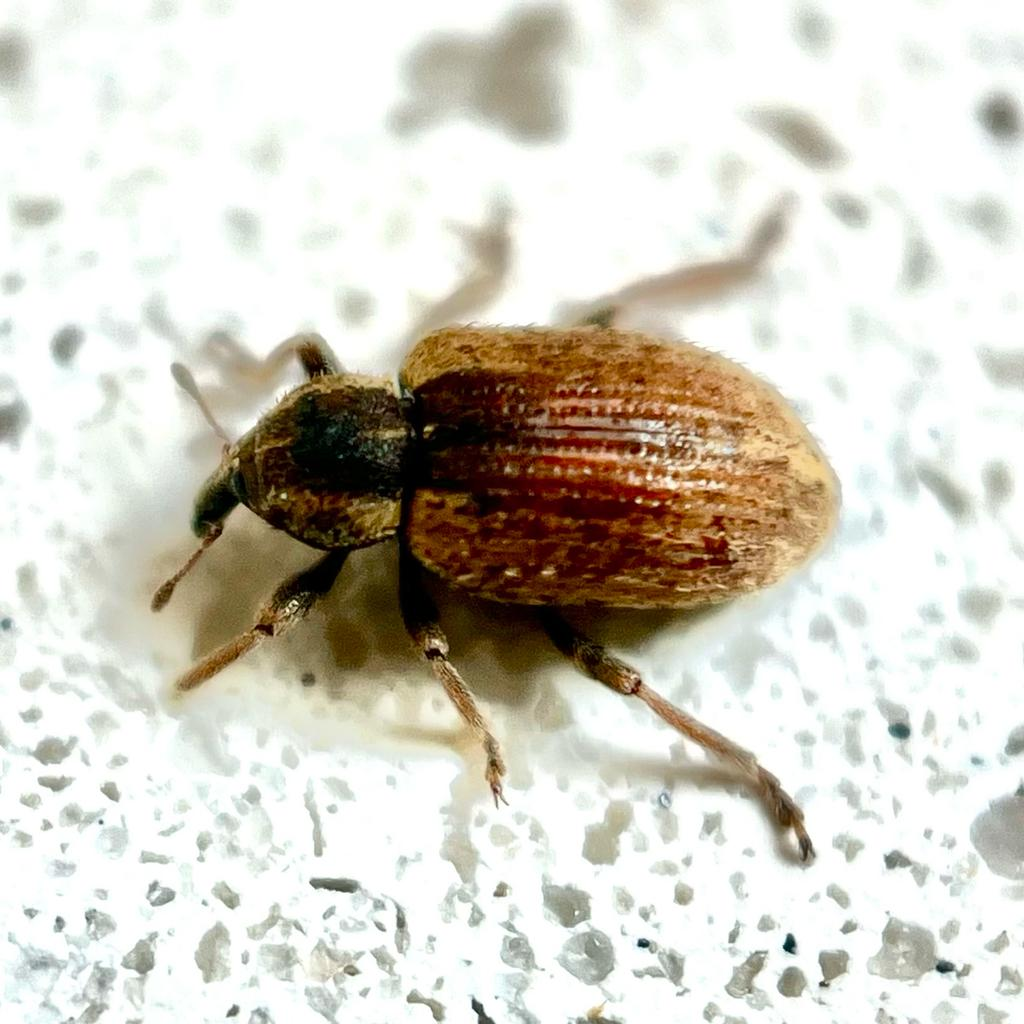weevils: (61, 131, 949, 983)
